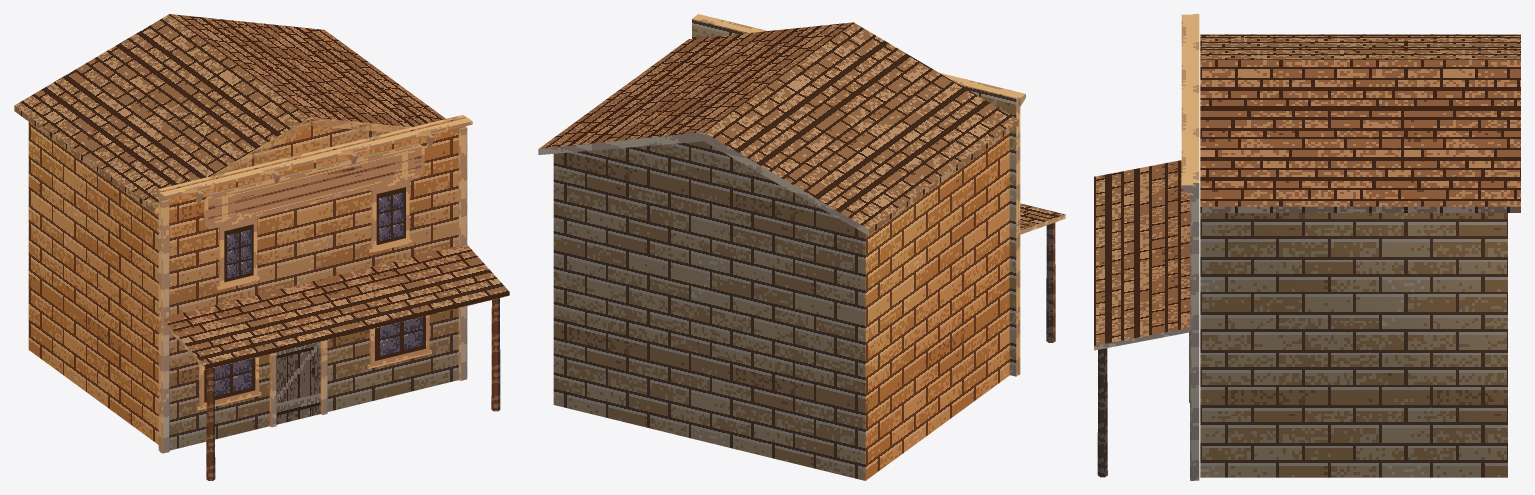
File: wtown.facade__g_brick.glb
The picture shows the model from 3 angles, left to right: view 1: azimuth 30°, elevation 25°; view 2: azimuth 150°, elevation 25°; view 3: azimuth 270°, elevation 25°; orthographic projection. The views are drawn at different scales.
Parts seen in each view (by area): view 1: kit_roof, kit_front, kit_body, kit_porch, kit_card_panes, kit_trim, kit_windows; view 2: kit_body, kit_roof, kit_front, kit_porch, kit_trim; view 3: kit_body, kit_roof, kit_porch, kit_trim, kit_front.
Part boxes in pixels (box(x1,y1,x2,y2)): kit_roof: box(14, 14, 445, 214); kit_front: box(158, 115, 465, 451); kit_body: box(28, 119, 407, 444); kit_porch: box(162, 245, 509, 480); kit_card_panes: box(204, 147, 425, 424); kit_trim: box(159, 117, 472, 453); kit_windows: box(196, 176, 431, 410); kit_body: box(553, 132, 1009, 480); kit_roof: box(538, 22, 1018, 235); kit_front: box(692, 17, 1019, 376); kit_porch: box(1020, 203, 1065, 342); kit_trim: box(693, 14, 1025, 374); kit_body: box(1200, 213, 1507, 477); kit_roof: box(1200, 34, 1520, 212); kit_porch: box(1094, 160, 1190, 477); kit_trim: box(1181, 14, 1193, 480); kit_front: box(1193, 14, 1199, 480).
Bounding box in the file's own units: 7.94 × 7.24 × 8.32.
7 materials, 7 textured.
